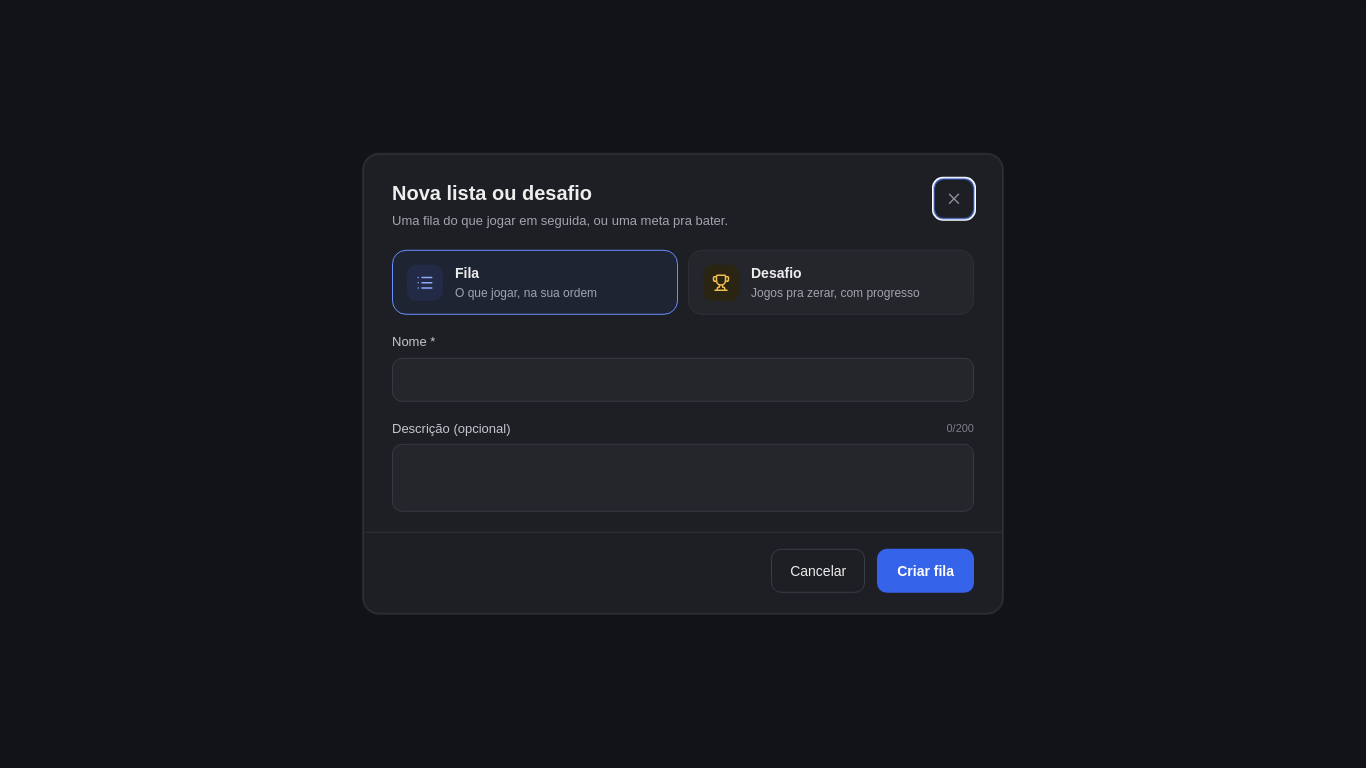
Test: NovaListaDialog › mostra erro de nome obrigatório por campo
Click the button "Criar fila" at (926, 571), box [877, 549, 974, 593]
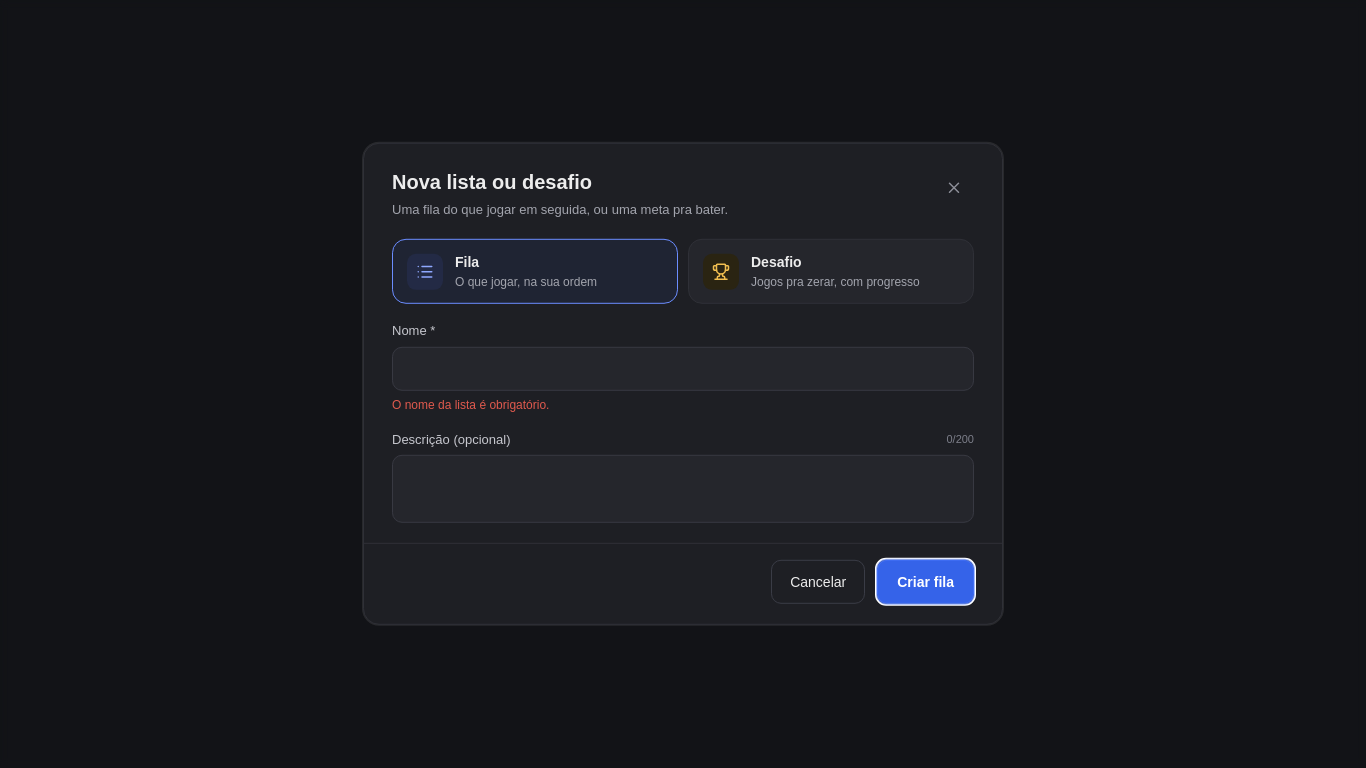
Expected: the text "O nome da lista é obrigatório." is shown, [392, 398, 549, 412]
